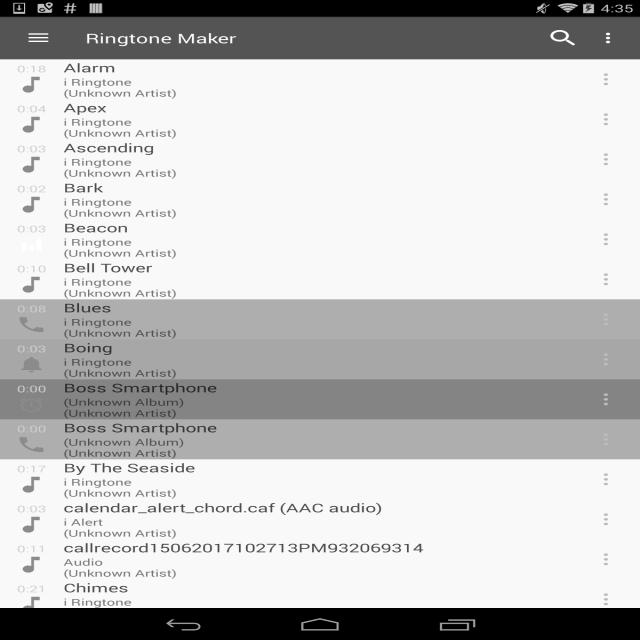ImageButton: (9, 17, 68, 59)
ImageView: (589, 22, 631, 54), (589, 69, 623, 90), (589, 109, 623, 130), (589, 149, 623, 170), (589, 189, 623, 210), (589, 229, 623, 250), (589, 269, 623, 290), (589, 309, 623, 330), (589, 349, 623, 370), (589, 389, 623, 410), (589, 429, 623, 450), (589, 469, 623, 490), (589, 509, 623, 530), (589, 549, 623, 570), (589, 589, 623, 610), (17, 75, 46, 94), (17, 115, 46, 134), (17, 276, 46, 294), (17, 316, 46, 334), (17, 356, 46, 374), (17, 396, 46, 414), (17, 436, 46, 454), (17, 476, 46, 494), (17, 516, 46, 534), (17, 556, 46, 574), (17, 596, 46, 614), (17, 156, 46, 173), (17, 196, 46, 213), (17, 236, 46, 253)
TextView: (63, 539, 424, 556), (63, 499, 383, 516), (46, 396, 184, 419), (46, 436, 184, 459), (46, 76, 177, 99), (46, 116, 177, 139), (46, 156, 177, 179), (46, 196, 177, 219), (46, 236, 177, 259), (46, 276, 177, 299), (46, 316, 177, 339), (46, 356, 177, 379), (46, 476, 177, 499), (46, 516, 177, 539), (46, 556, 177, 579), (46, 596, 177, 619), (85, 29, 237, 47), (64, 379, 217, 396), (64, 419, 217, 436), (64, 459, 195, 476), (538, 22, 588, 54), (64, 139, 154, 156), (64, 259, 153, 276), (63, 219, 128, 236), (64, 579, 128, 596), (63, 59, 116, 76), (64, 299, 112, 316), (64, 339, 112, 356), (64, 99, 106, 116), (63, 179, 103, 196), (17, 62, 46, 75), (17, 102, 46, 115), (17, 142, 46, 155), (17, 182, 46, 195), (17, 222, 46, 235), (17, 262, 46, 275), (17, 302, 46, 315), (17, 342, 46, 355), (17, 382, 46, 395), (17, 422, 46, 435), (17, 462, 46, 475), (17, 502, 46, 515), (17, 542, 46, 555), (17, 582, 46, 595)
